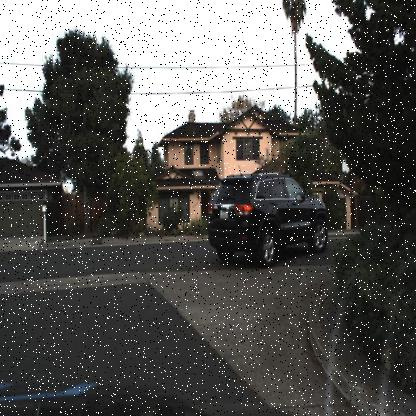car: (206, 164, 336, 276)
